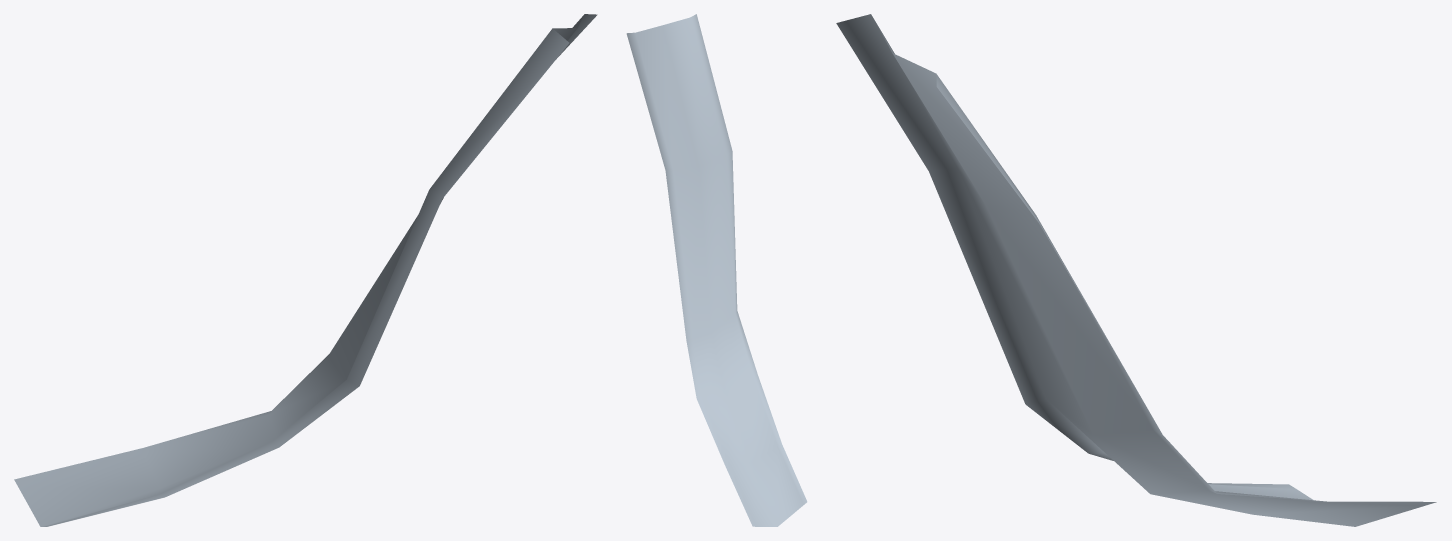
The model's file is pubofemoral-ligament-r.glb.
3 renders of one model, left to right at view 1: azimuth 30°, elevation 25°; view 2: azimuth 150°, elevation 25°; view 3: azimuth 270°, elevation 25°, orthographic. The views are drawn at different scales.
Visible parts, largest first — view 1: Pubofemoral ligament.r; view 2: Pubofemoral ligament.r; view 3: Pubofemoral ligament.r.
Boxes of the visible parts, x1,y1,x2,y2 form: Pubofemoral ligament.r: (14,14,597,526); Pubofemoral ligament.r: (626,14,807,526); Pubofemoral ligament.r: (836,14,1436,526).
Size of the model in its own units: 0.0349 by 0.045 by 0.0344.
